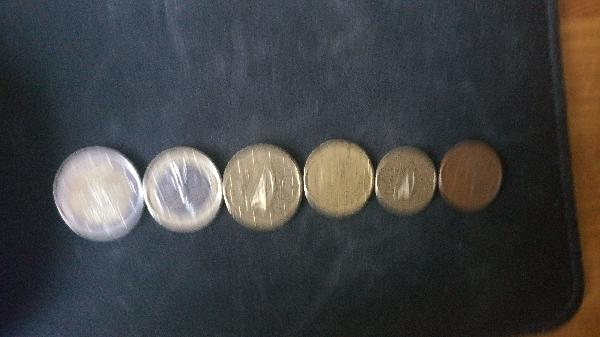Fifty Cent: (221, 146, 303, 230)
Five Cent: (439, 139, 504, 213)
One Euro: (142, 143, 222, 240)
Ten Cent: (376, 145, 436, 213)
Twenty Cent: (303, 141, 373, 217)
Two Euro: (54, 143, 142, 242)
